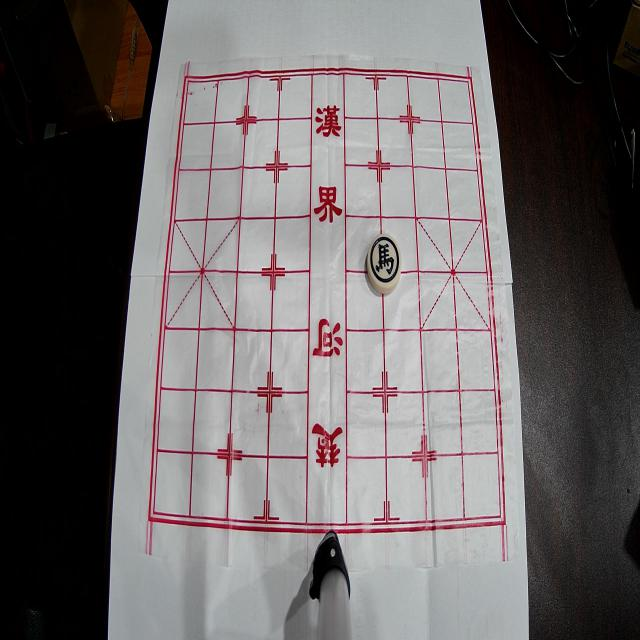black-horse: (367, 233, 401, 294)
